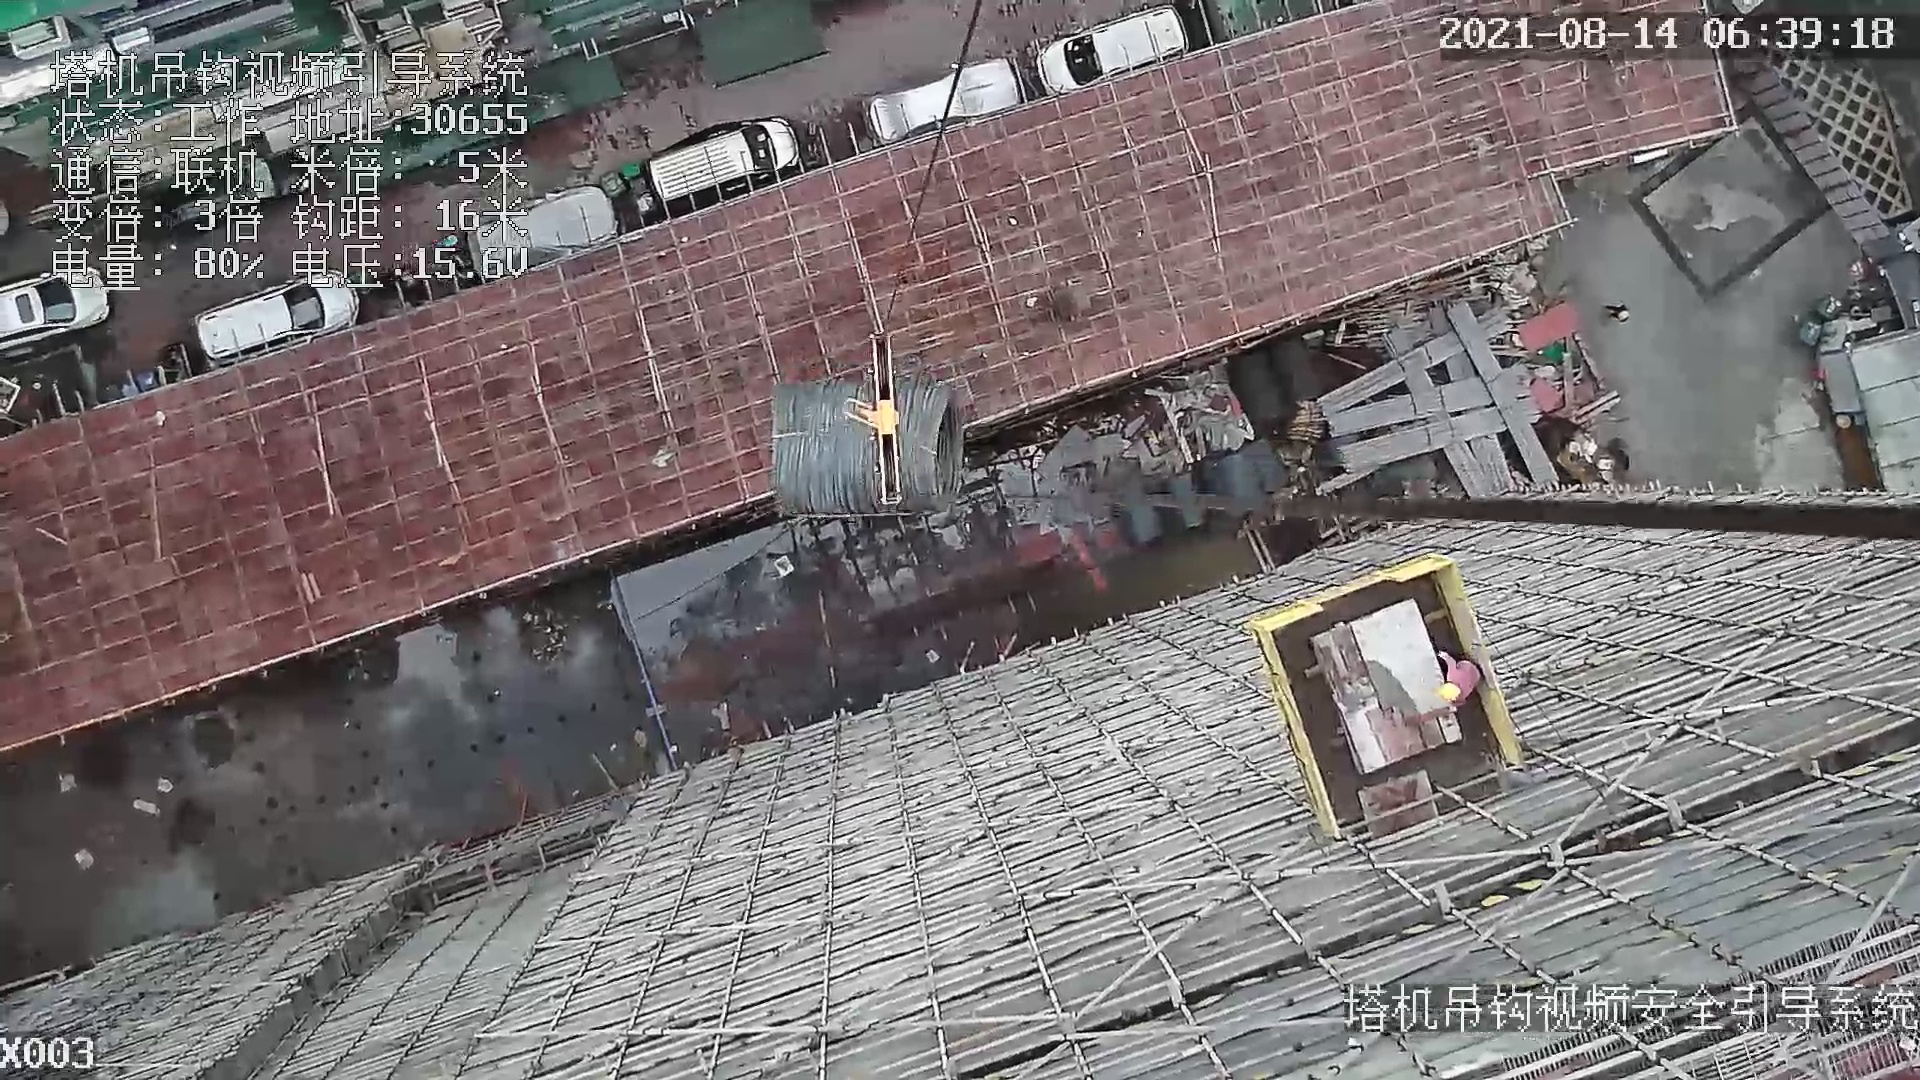helmet: (1438, 677, 1461, 706)
hook: (840, 331, 912, 506)
person: (1437, 653, 1485, 721)
